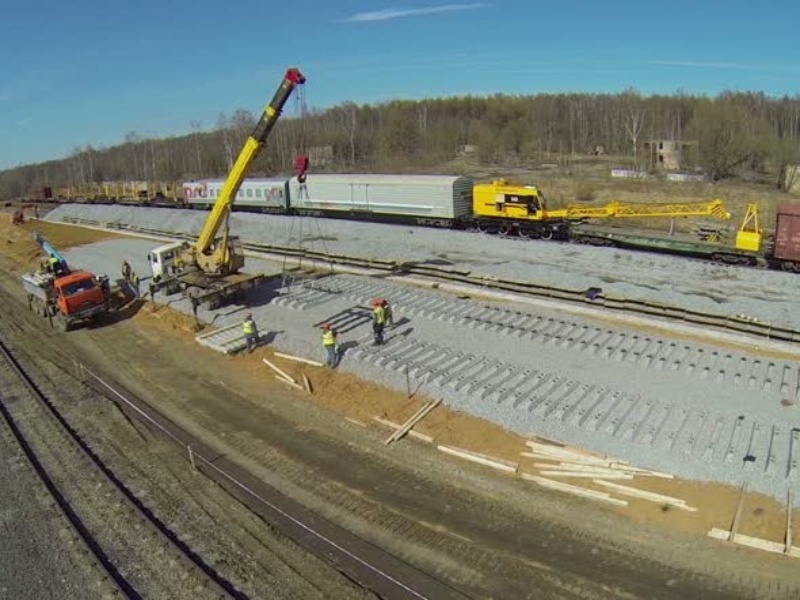crane: (147, 64, 312, 313)
vehicle: (19, 264, 109, 333)
